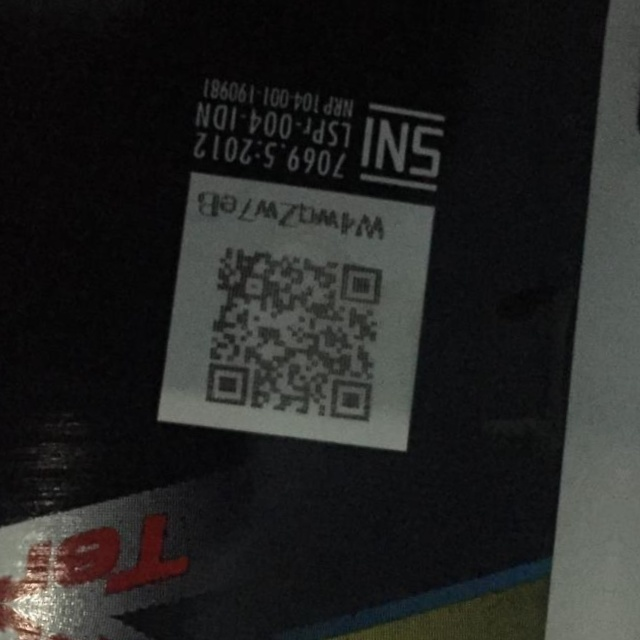qr-code: (190, 235, 395, 430)
